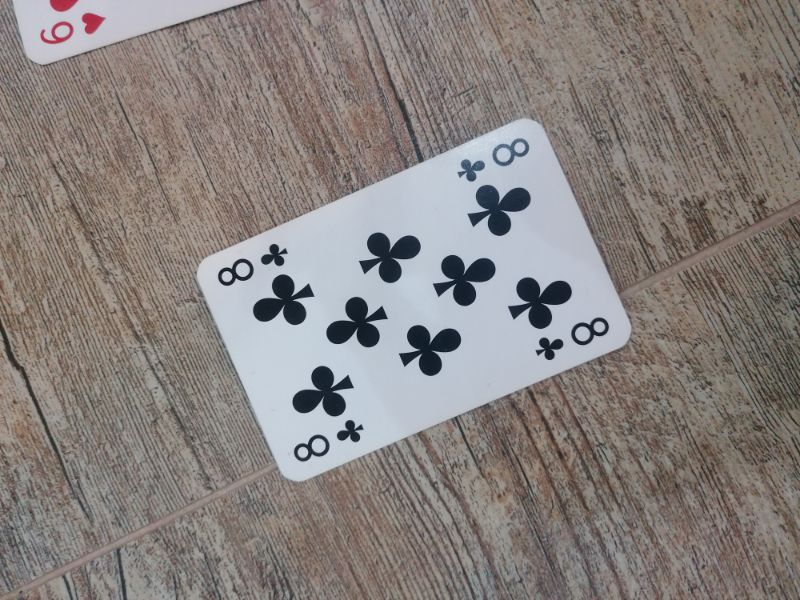6h: (37, 10, 109, 48)
8c: (454, 134, 532, 186), (533, 314, 611, 364), (290, 418, 367, 466), (216, 241, 290, 288)
